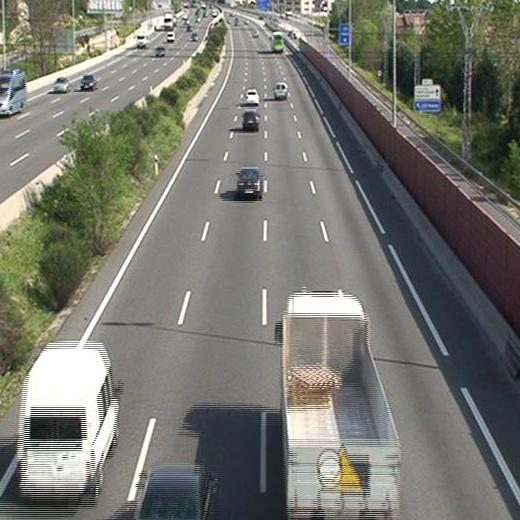bus: (271, 32, 284, 52)
car: (237, 167, 262, 197), (242, 110, 259, 130), (243, 90, 259, 104)
small-truck: (281, 292, 399, 520)
van: (20, 343, 118, 499), (273, 82, 287, 98)
